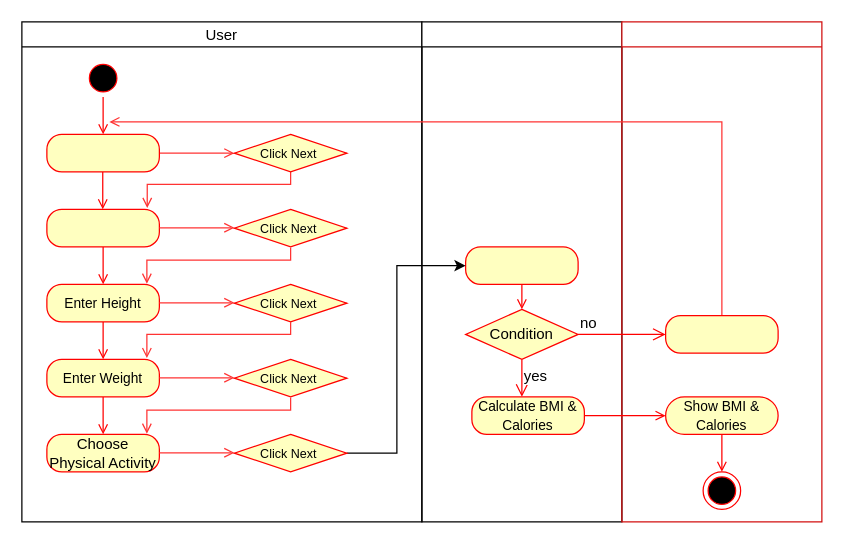
Image size: 844x544. Some labels were removed from this diagram. Each missing label, with the box of its shape:
Check is data valid: (464, 246, 578, 284)
Choose Gender: (46, 133, 159, 172)
Enter Age: (46, 208, 159, 247)
Mark field invalid: (664, 314, 778, 353)
System: (421, 21, 622, 522)
UI: (621, 21, 822, 522)
